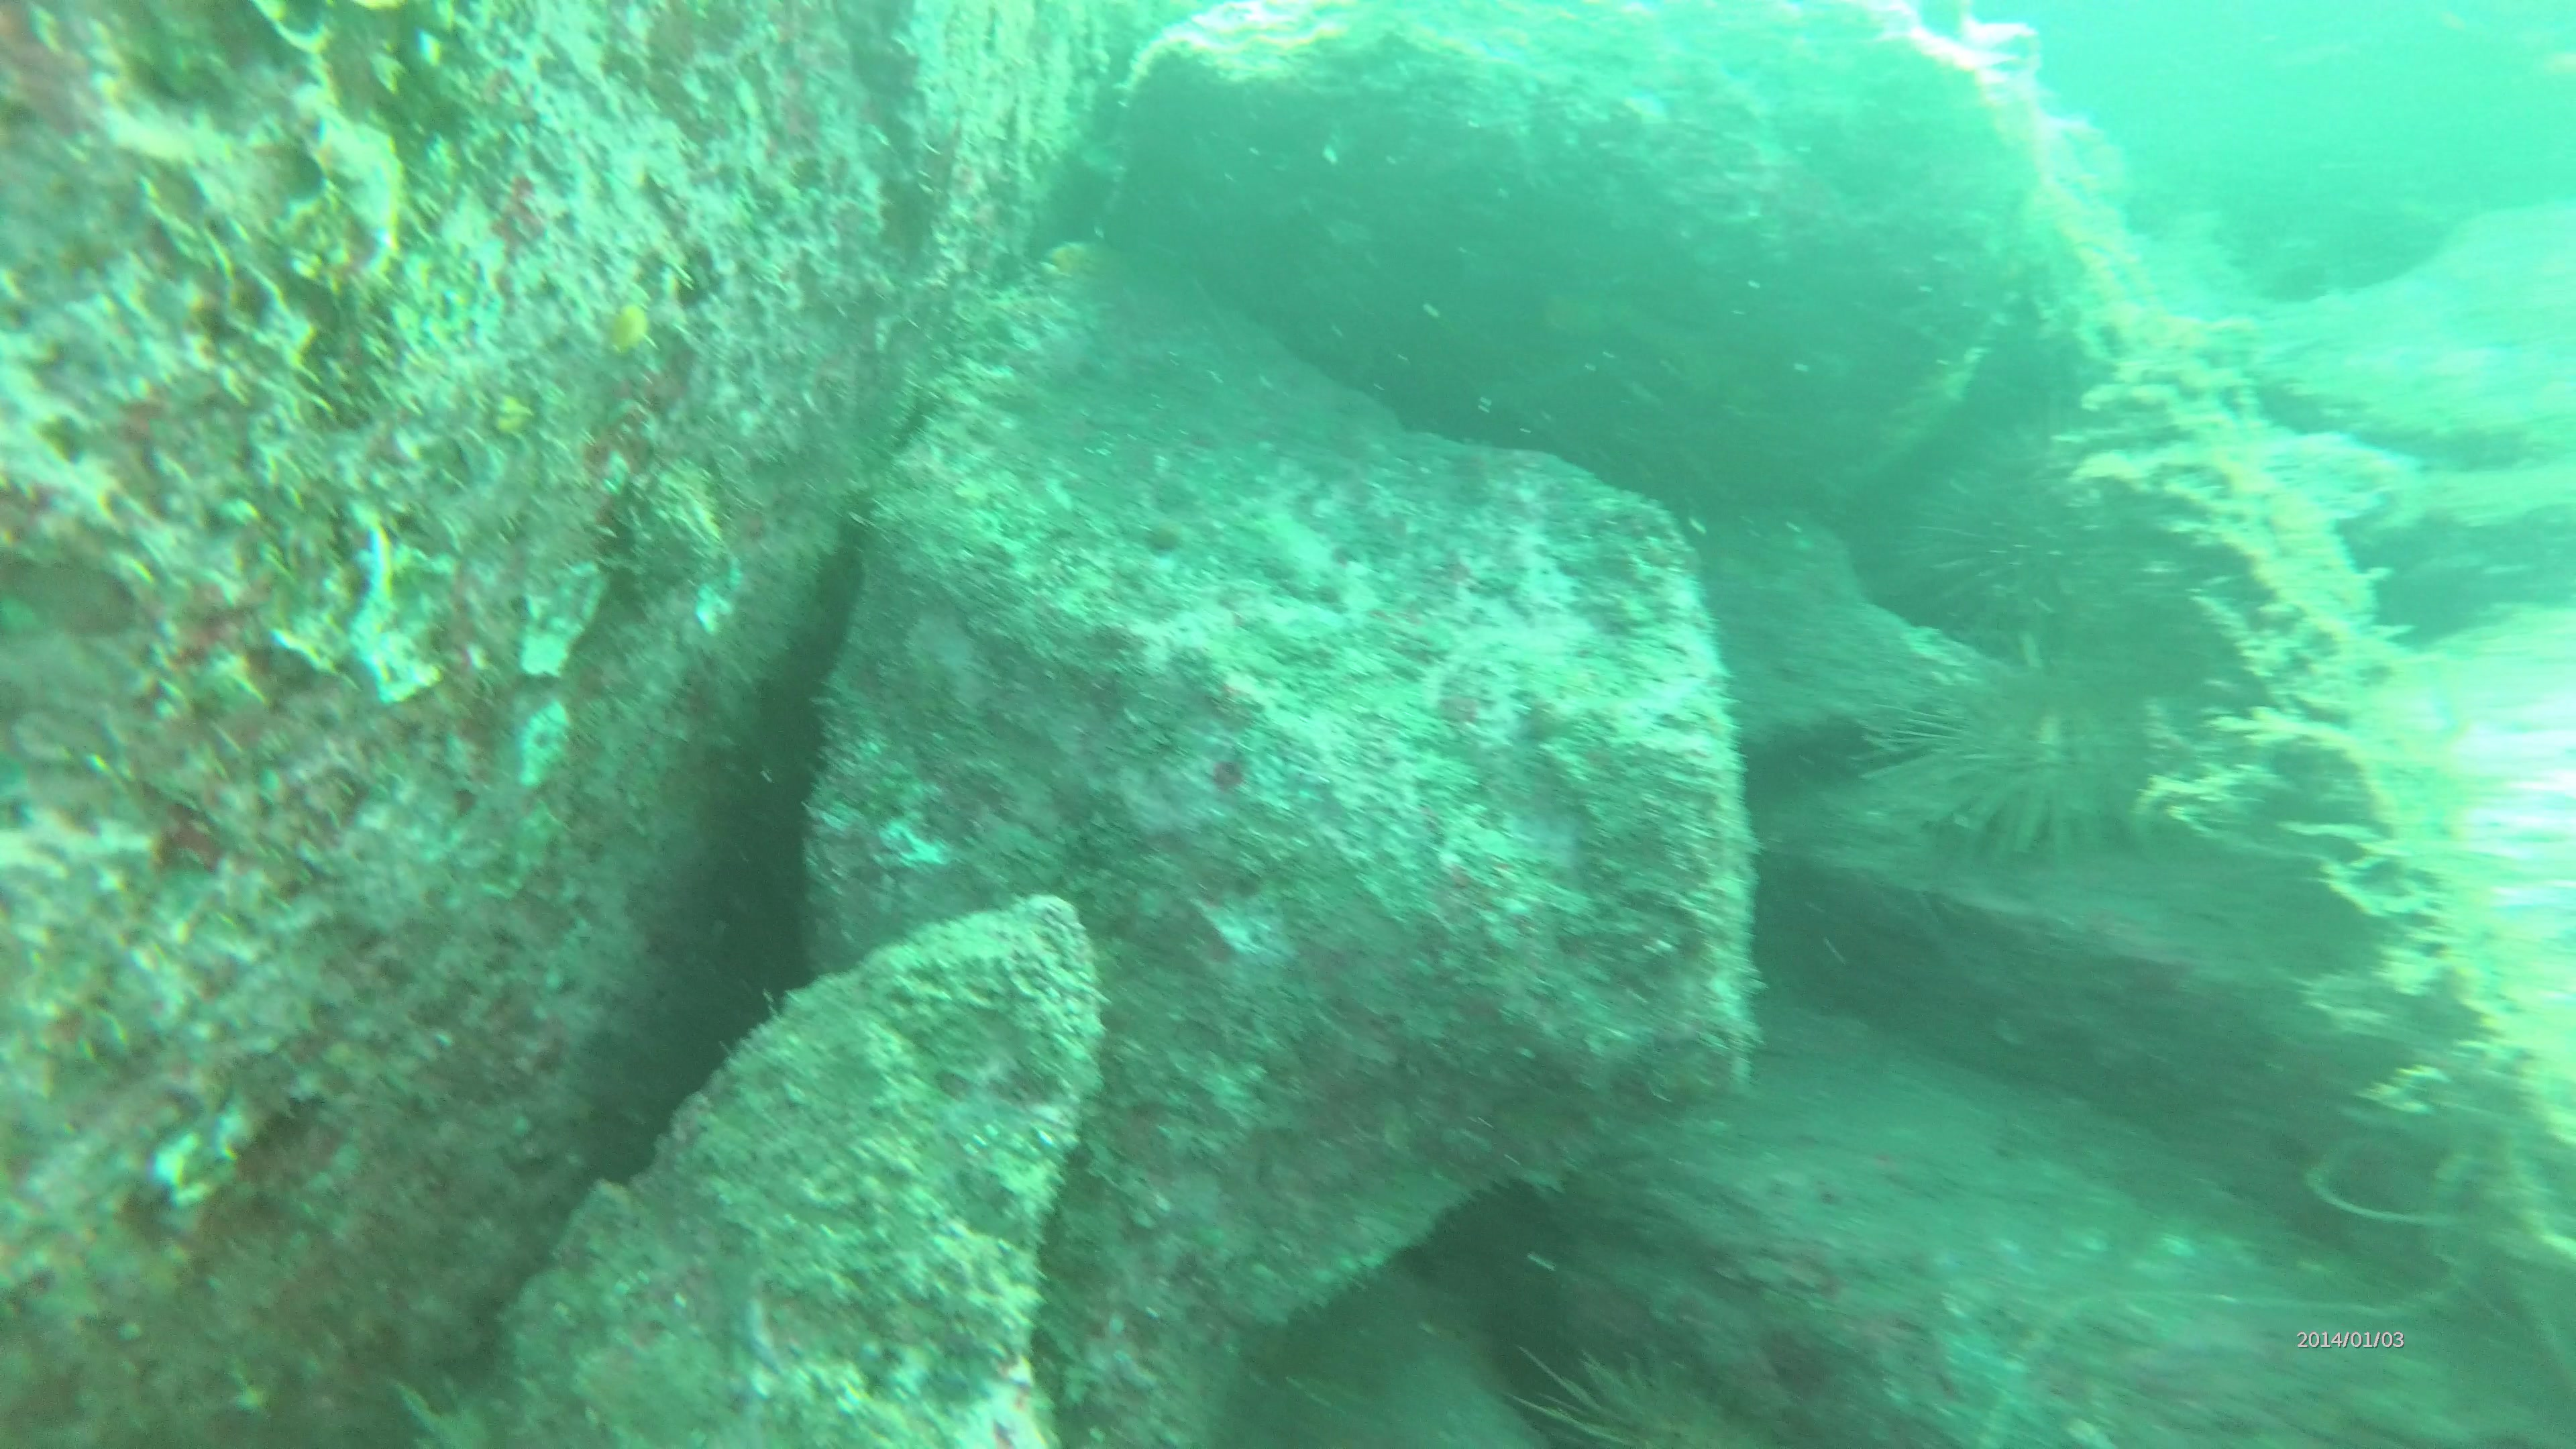echinus: (1854, 633, 2167, 867), (1907, 425, 2151, 658)
